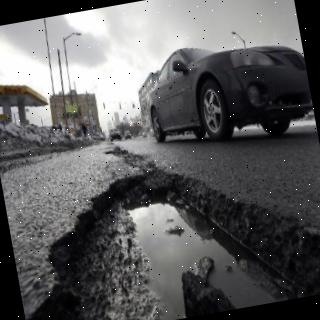pothole: (27, 170, 320, 320)
